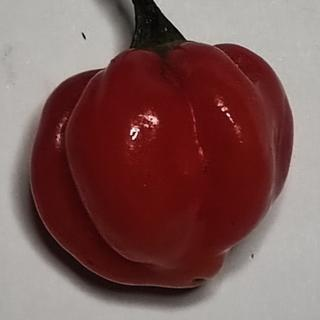Grade-B: (25, 41, 298, 298)
